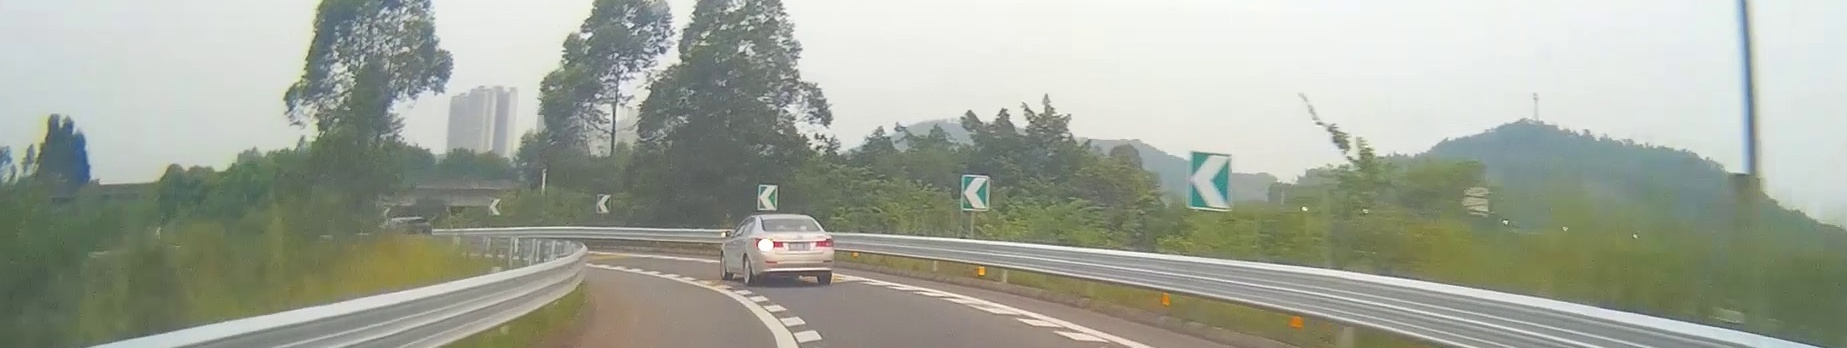L_light: (755, 238, 783, 248)
R_light: (816, 239, 833, 247)
T_light: (783, 219, 796, 222)
day-left: (754, 215, 834, 285)
